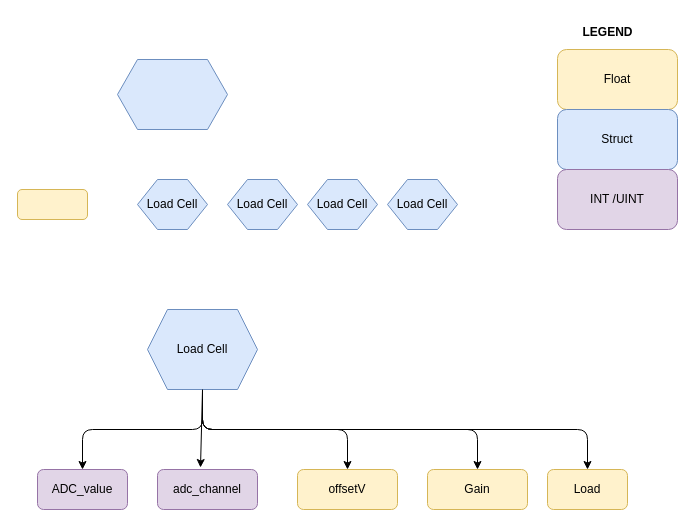
The diagram is 695 pixels wide and 527 high, and some of its shapes have lost their labels. Each missing label, with the centre of its shape:
"Board" belongs at point (172, 94).
"Total Weight (float)" belongs at point (52, 204).
